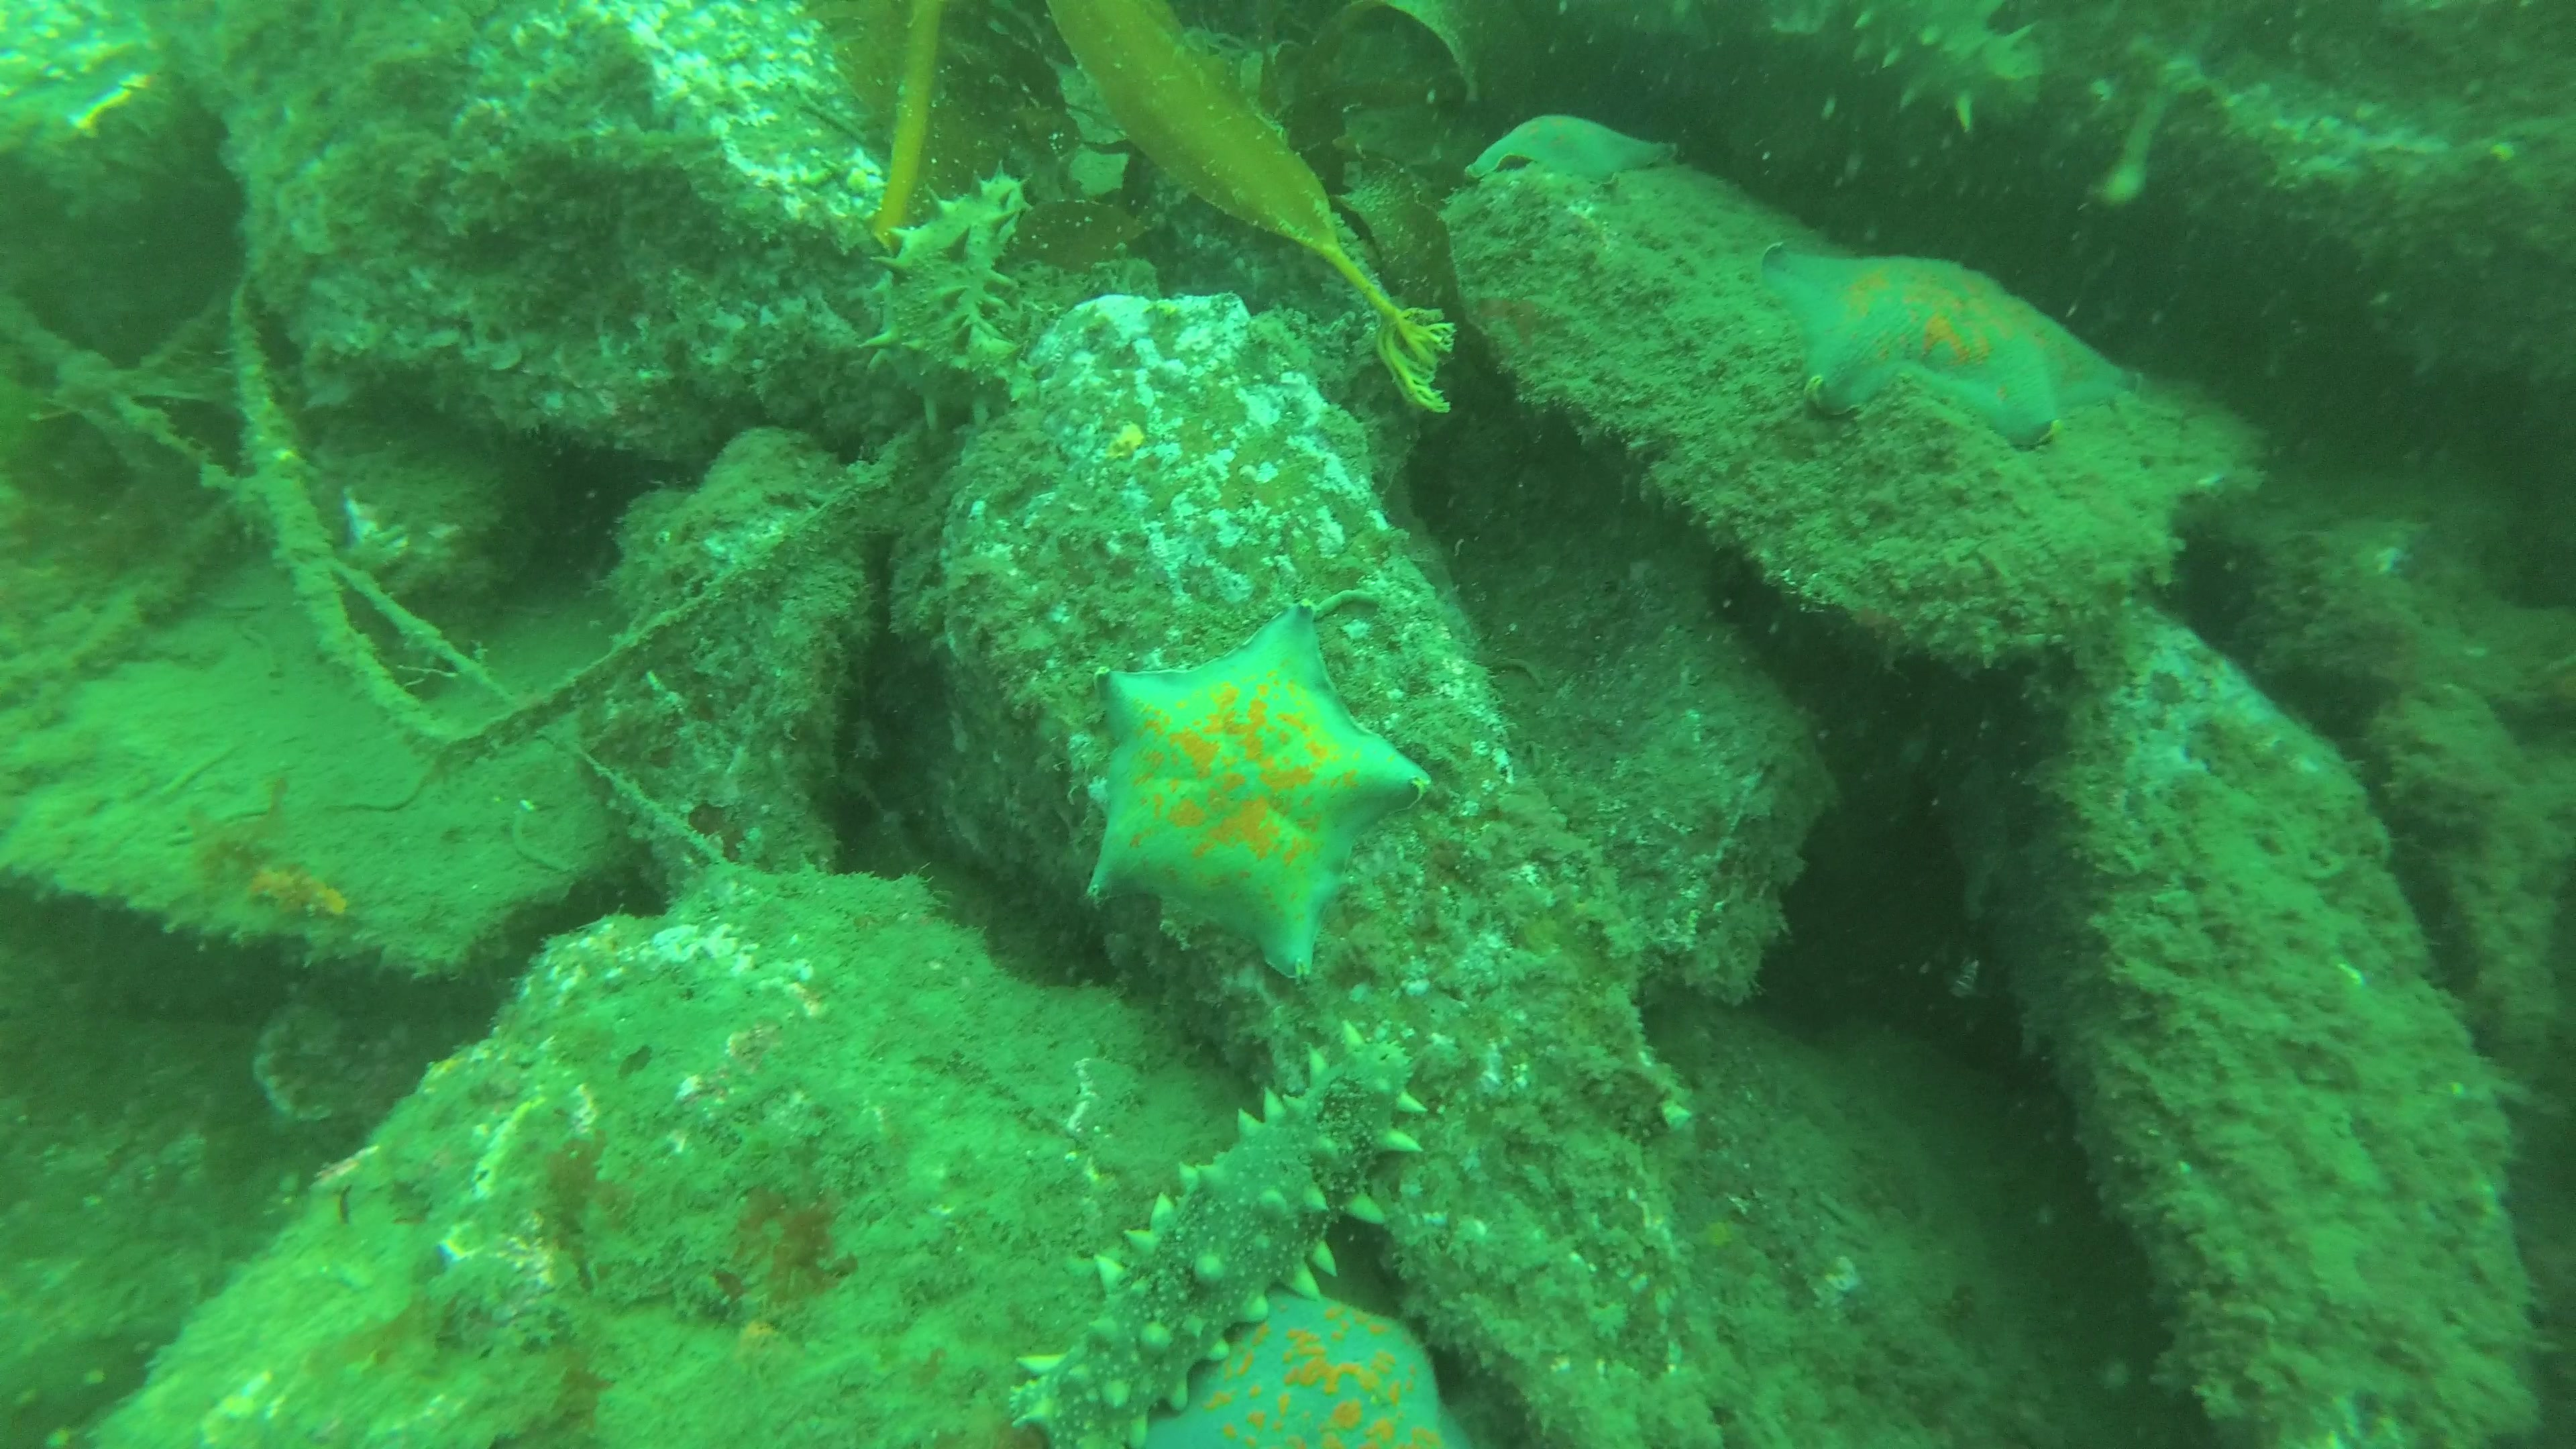holothurian: (1010, 1021, 1435, 1449), (867, 143, 1033, 426), (1840, 2, 2063, 142)
starfish: (1083, 582, 1437, 989), (1760, 237, 2150, 456), (1168, 1269, 1477, 1449), (1447, 111, 1693, 196)
